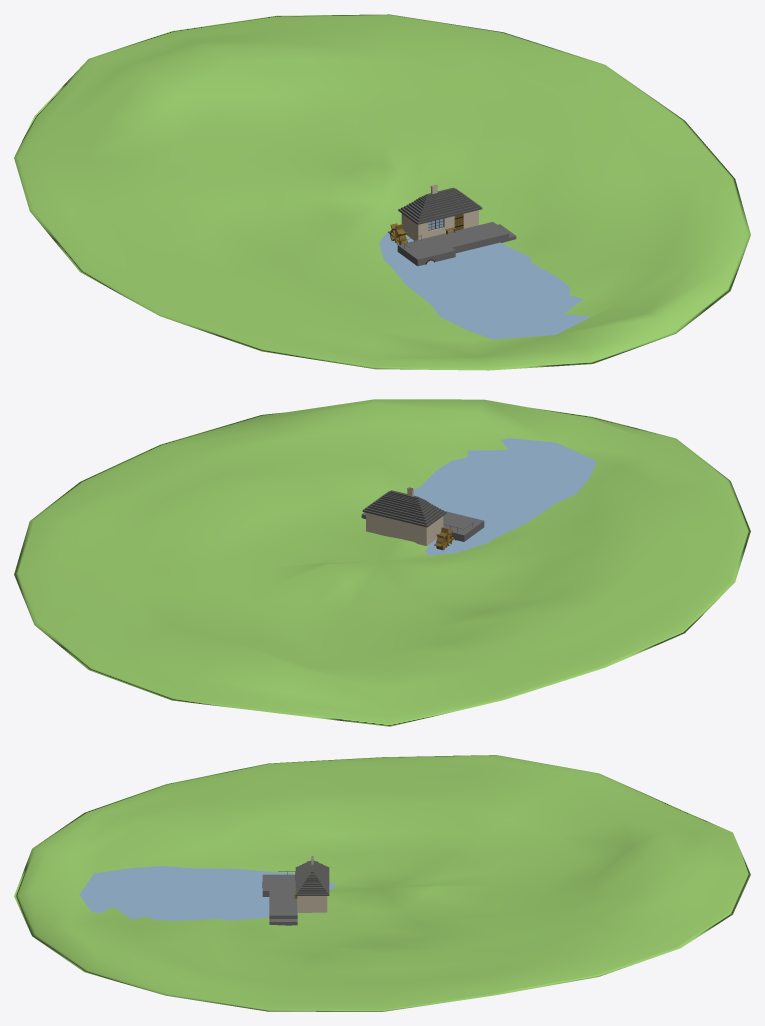
The picture shows the model from 3 angles, top to bottom: view 1: azimuth 30°, elevation 25°; view 2: azimuth 150°, elevation 25°; view 3: azimuth 270°, elevation 25°; orthographic projection. The views are drawn at different scales.
Visible parts, largest first — view 1: hill, water, housebase, polySurface1; view 2: hill, water, housebase, polySurface1; view 3: hill, water, housebase, polySurface1.
Part boxes in pixels (<box>): hill: <box>14,14,750,370</box>; water: <box>379,232,588,339</box>; housebase: <box>398,184,482,240</box>; polySurface1: <box>397,222,516,266</box>; hill: <box>14,399,750,726</box>; water: <box>406,438,596,555</box>; housebase: <box>362,487,446,545</box>; polySurface1: <box>361,511,484,541</box>; hill: <box>14,755,750,1011</box>; water: <box>79,866,336,920</box>; housebase: <box>295,856,329,912</box>; polySurface1: <box>262,874,297,925</box>.
Bounding box in the file's own units: 60.89 × 5.82 × 73.43.
